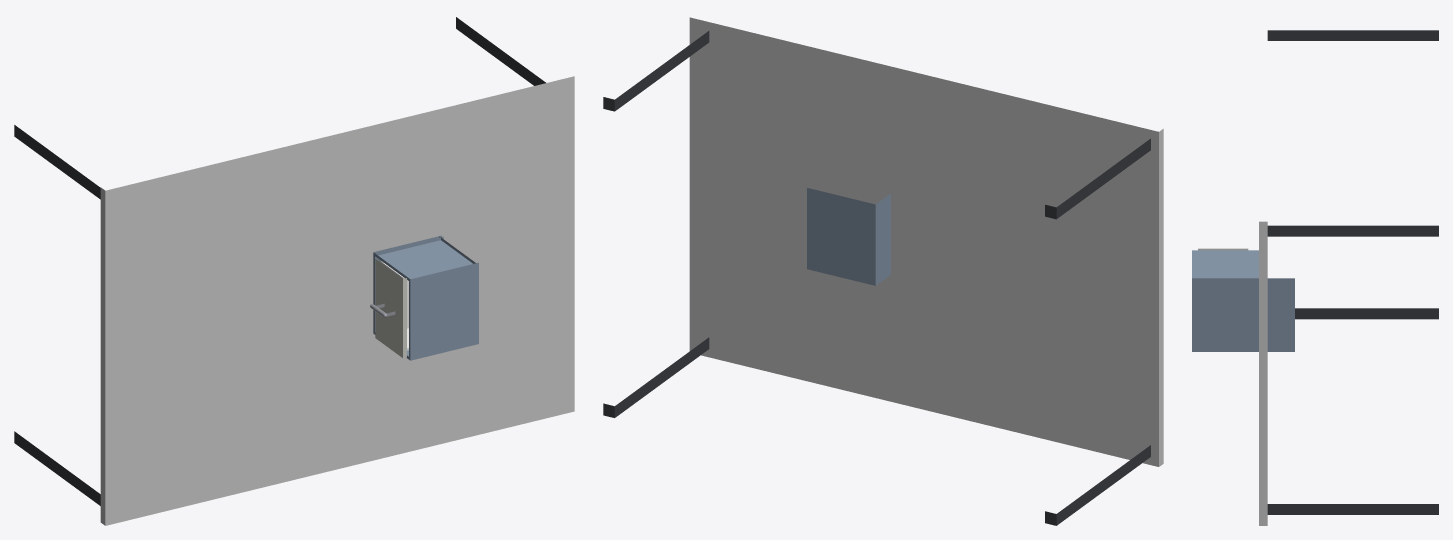
3 renders of one model, left to right at view 1: azimuth 30°, elevation 25°; view 2: azimuth 150°, elevation 25°; view 3: azimuth 270°, elevation 25°, orthographic. The views are drawn at different scales.
Visible parts, largest first — view 1: s0, s1, s2; view 2: s0, s1; view 3: s0, s1.
Part boxes in pixels (<box>): s0: <box>14,17,574,525</box>; s1: <box>373,235,478,360</box>; s2: <box>370,259,408,358</box>; s0: <box>603,17,1163,525</box>; s1: <box>807,188,890,285</box>; s0: <box>1259,30,1438,525</box>; s1: <box>1192,250,1294,351</box>.
Bounding box in the file's own units: 2.05 × 1.4 × 1.03.
